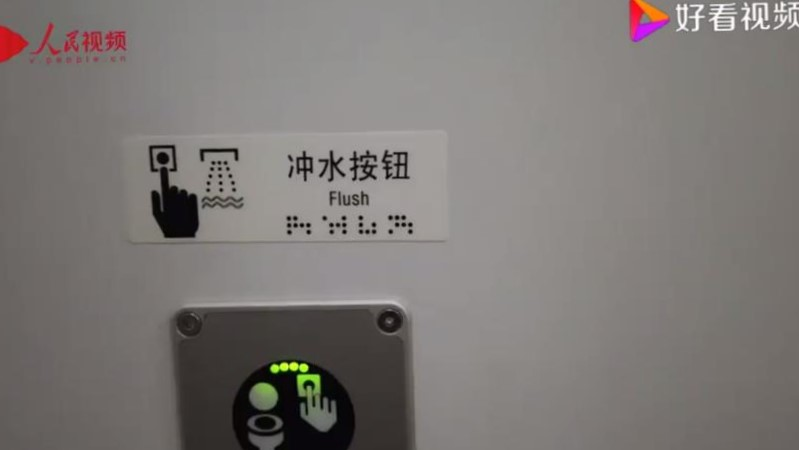Braille: (299, 215, 312, 236), (387, 214, 400, 235), (401, 214, 414, 235), (322, 215, 335, 235), (335, 215, 348, 235), (358, 215, 371, 235), (286, 215, 298, 236), (371, 215, 383, 235)
